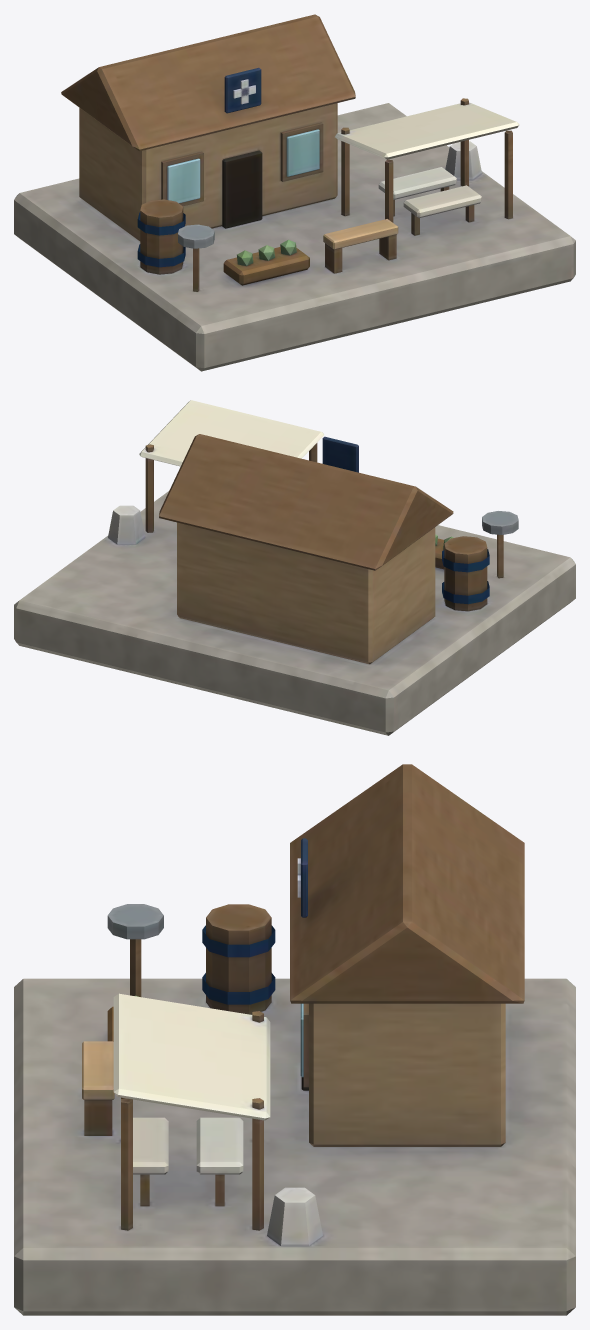
File: infirmary-5.glb
3 views of the same model, one above another, from view 1: azimuth 30°, elevation 25°; view 2: azimuth 150°, elevation 25°; view 3: azimuth 270°, elevation 25° (orthographic). The views are drawn at different scales.
Parts seen in each view (by area): view 1: infirmary-5; view 2: infirmary-5; view 3: infirmary-5.
Part boxes in pixels (left/top/right/bottom): infirmary-5: left=14, top=14, right=575, bottom=371; infirmary-5: left=14, top=400, right=575, bottom=735; infirmary-5: left=14, top=764, right=575, bottom=1315.
Bounding box in the file's own units: 1.4 × 0.7127 × 1.2.
1 material, 1 textured.
